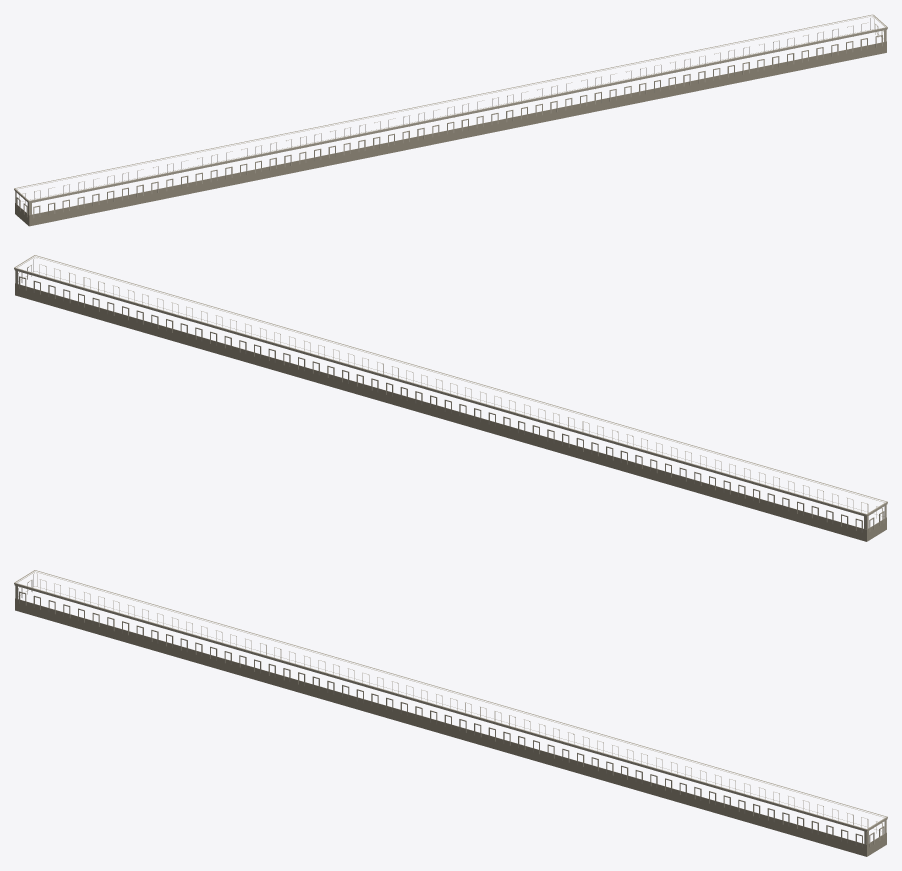
3 views of the same model, one above another, from view 1: azimuth 30°, elevation 25°; view 2: azimuth 150°, elevation 25°; view 3: azimuth 330°, elevation 25° (orthographic). The views are drawn at different scales.
Visible parts, largest first — view 1: detail; view 2: detail; view 3: detail.
Part boxes in pixels (bbox=[...]): detail: bbox=[14, 14, 887, 226]; detail: bbox=[14, 255, 887, 541]; detail: bbox=[14, 570, 887, 856].
Size of the model in its own units: 209 by 6.16 by 23.55.
